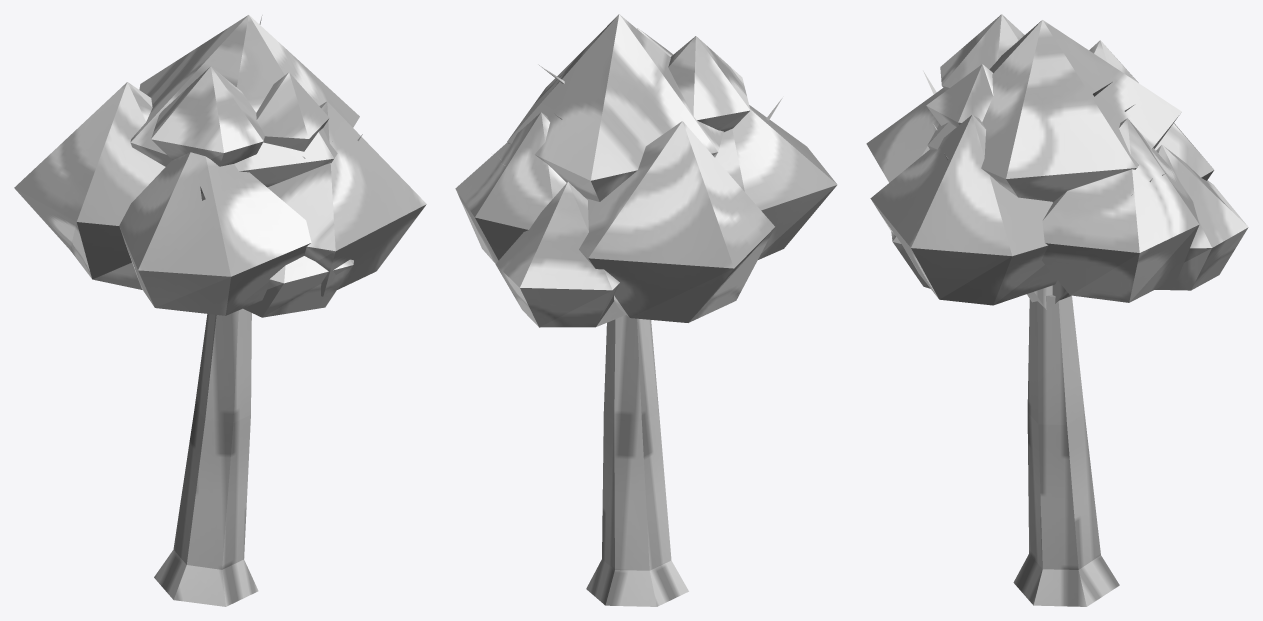
The model's file is tree_teak_2.obj.
3 renders of one model, left to right at view 1: azimuth 30°, elevation 25°; view 2: azimuth 150°, elevation 25°; view 3: azimuth 270°, elevation 25°, orthographic. The views are drawn at different scales.
Parts seen in each view (by area): view 1: tree_teak_2; view 2: tree_teak_2; view 3: tree_teak_2.
Boxes of the visible parts, box(x1,y1,x2,y2) form: tree_teak_2: box(14, 15, 426, 606); tree_teak_2: box(455, 14, 837, 606); tree_teak_2: box(866, 14, 1248, 606).
Bounding box in the file's own units: 0.6197 × 1.15 × 0.6816.
